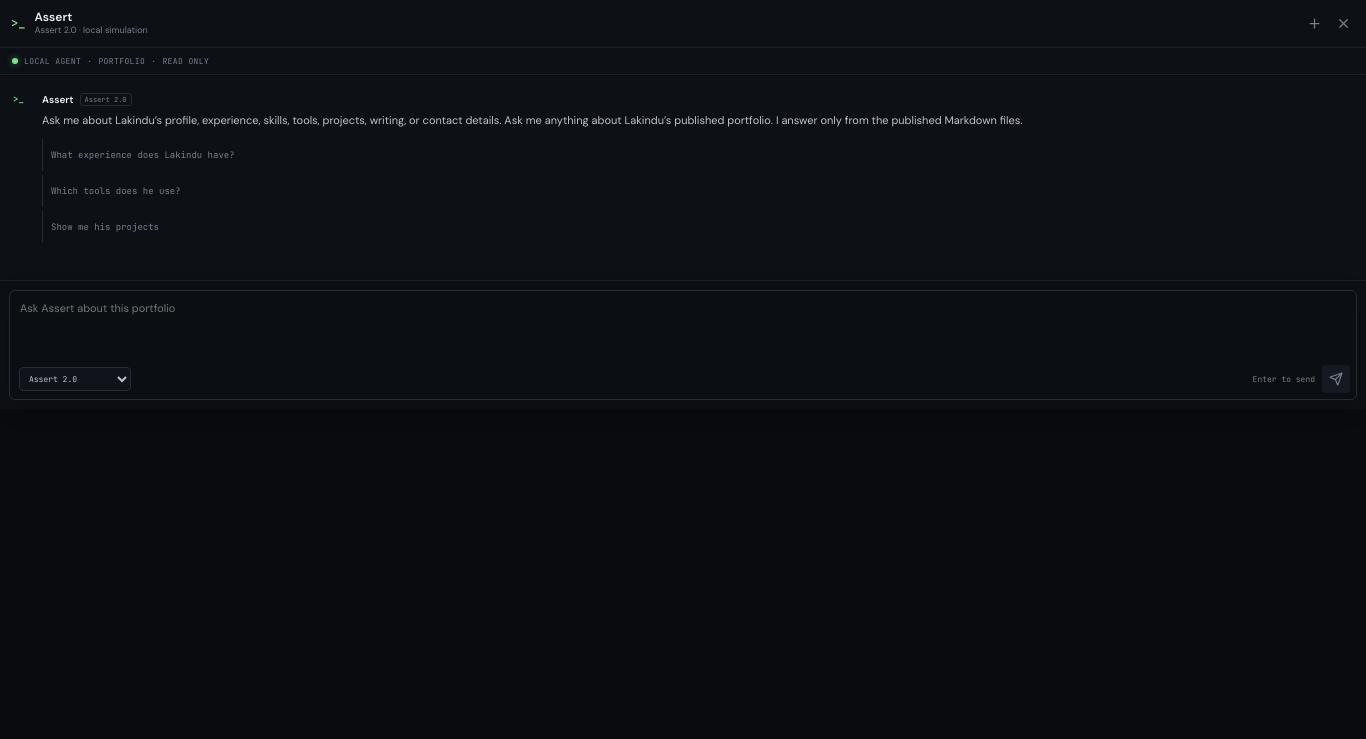
Test case: Assert portfolio extension › keeps New chat as the only command that resets the conversation
In the text box named "Ask a portfolio question": (683, 326) [10,291,1356,361], type "/help"
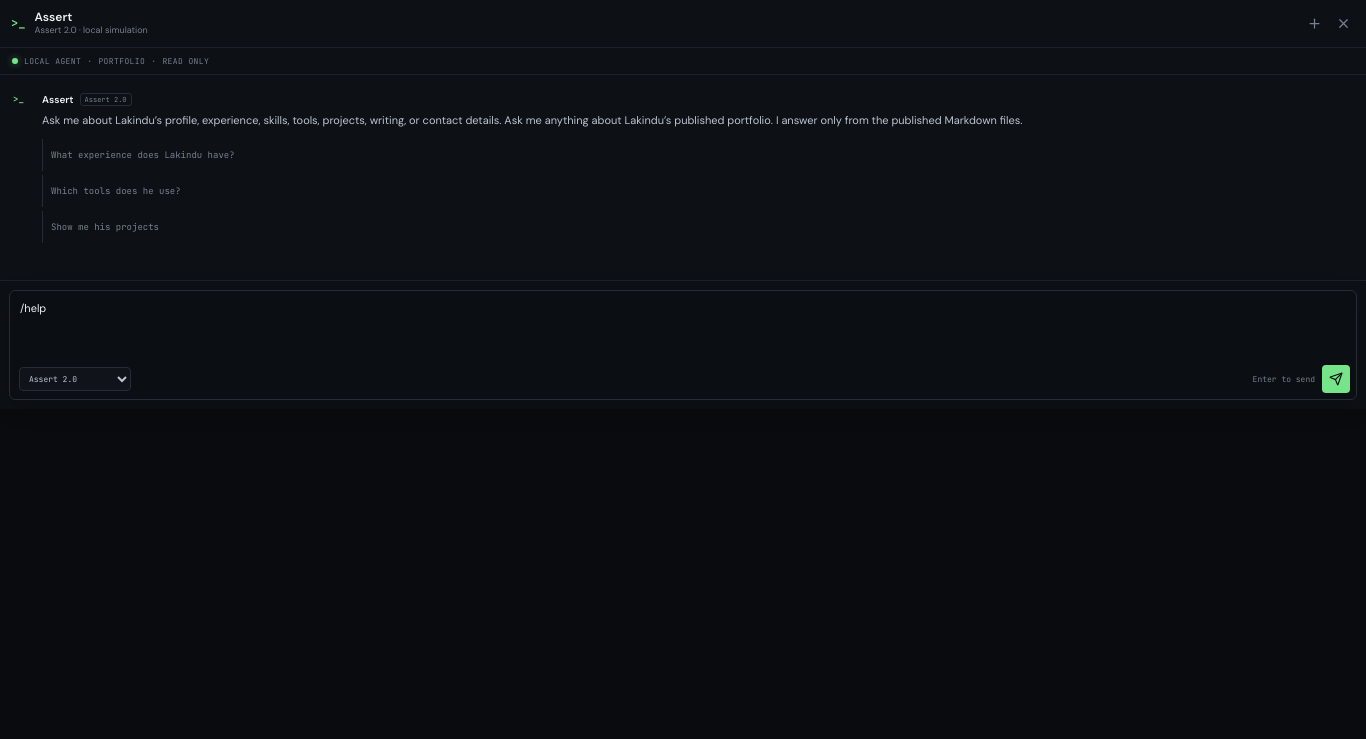
Submit the form named "Ask a portfolio question", box [9,290,1357,400]
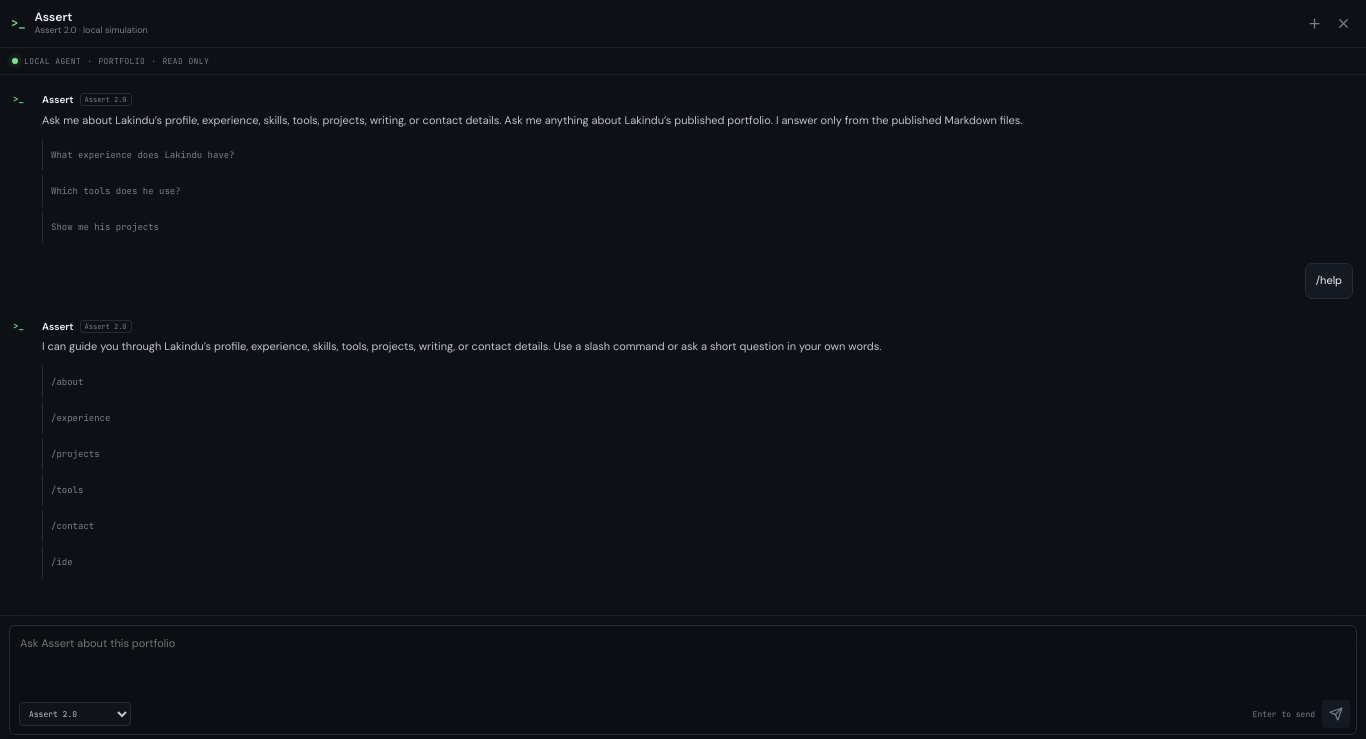
In the text box named "Ask a portfolio question": (683, 661) [10,626,1356,696], type "/clear"
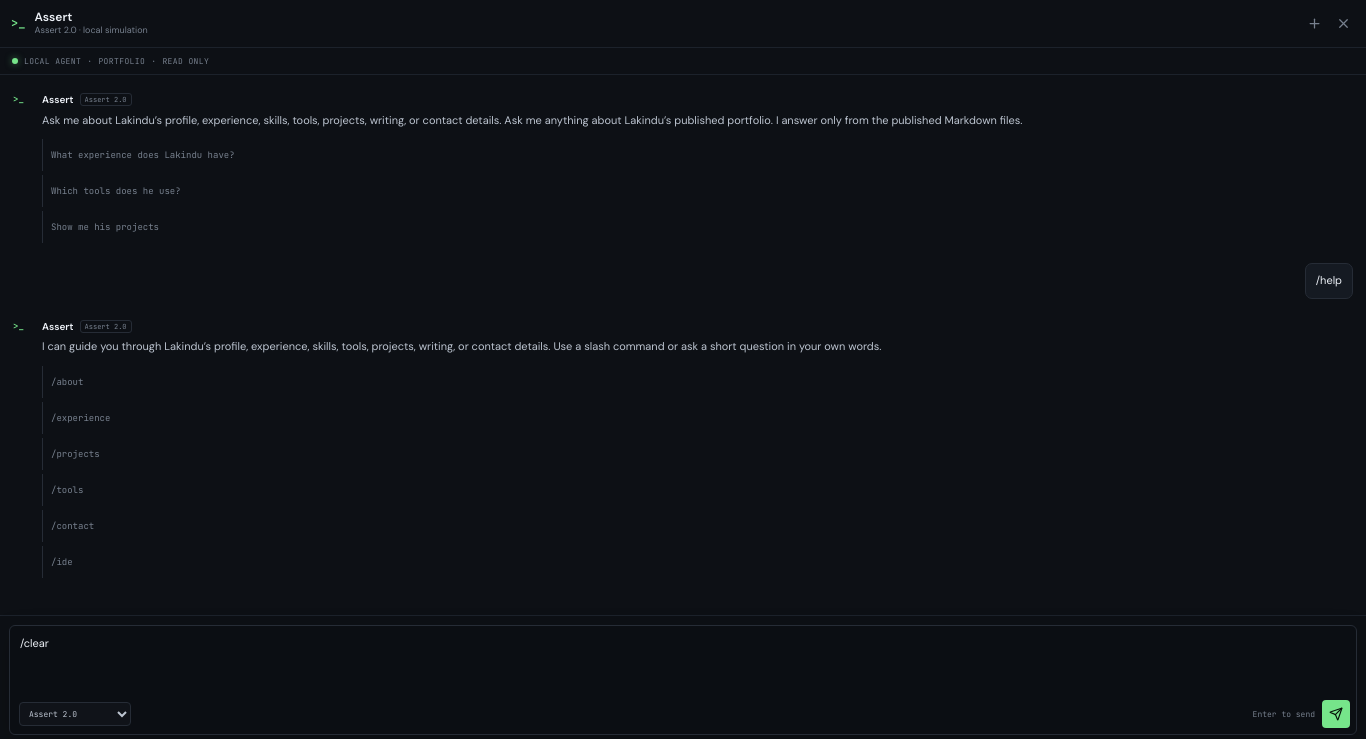
Submit the form named "Ask a portfolio question", box [9,625,1357,735]
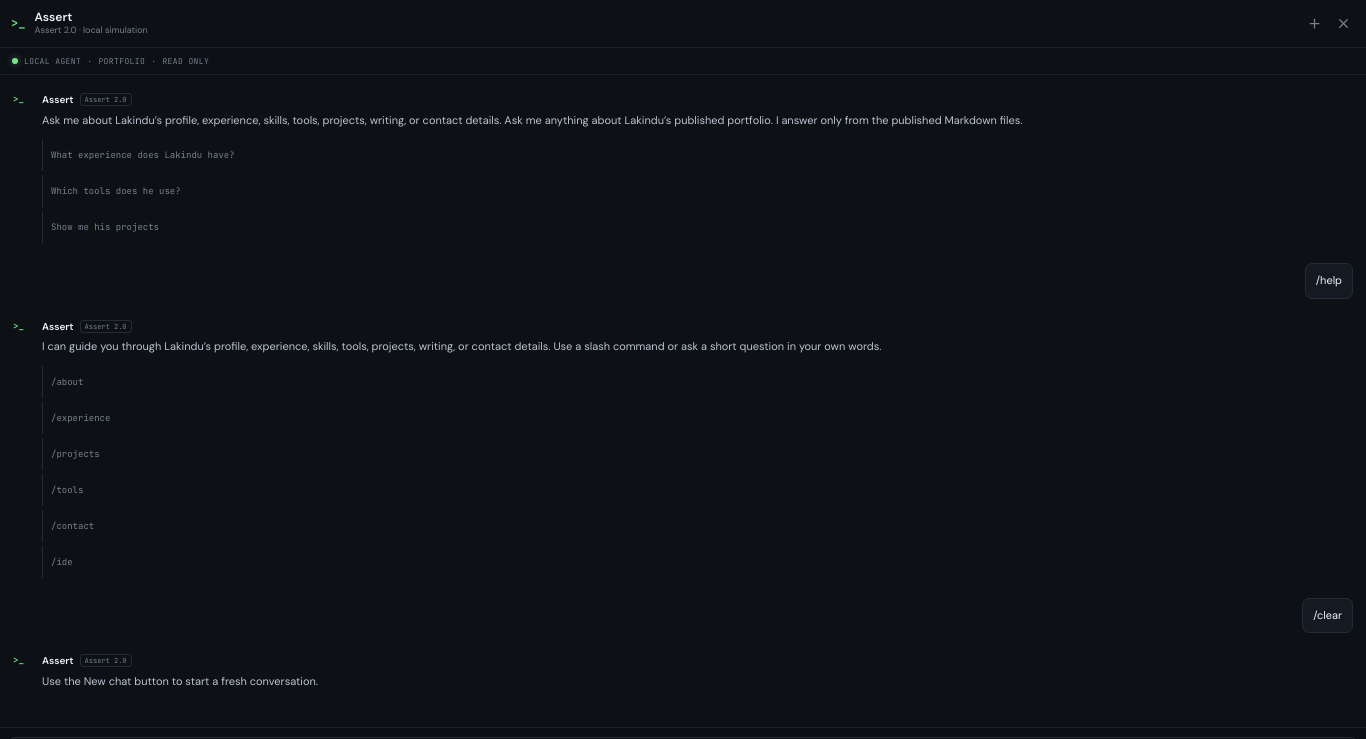
Result: the text "/help" is shown at [1316,272,1342,290]
Result: the text "/clear" is shown at [1313,607,1342,624]
Result: the text "Use the New chat button to start a fresh conversation." is shown at [42,674,318,688]
